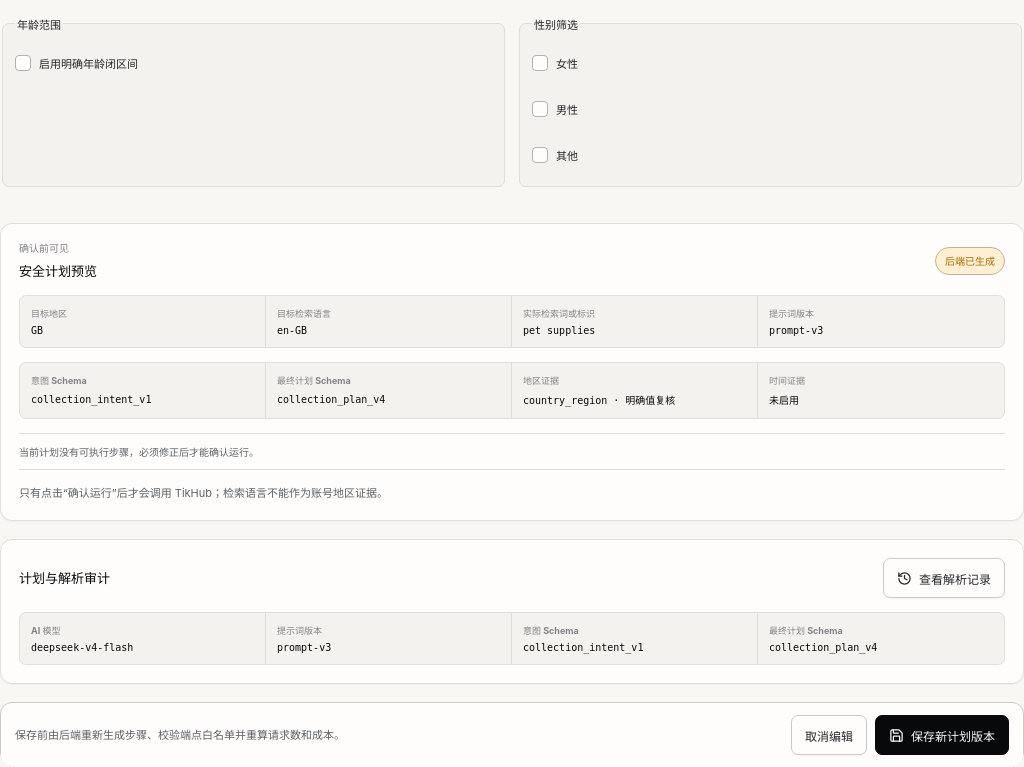
完整任务编辑器 › 查看解析记录包含尚未创建 ai_run 的配置阶段失败
(page scrolled)
Click the button "查看解析记录" at (944, 578), box [883,558,1005,598]
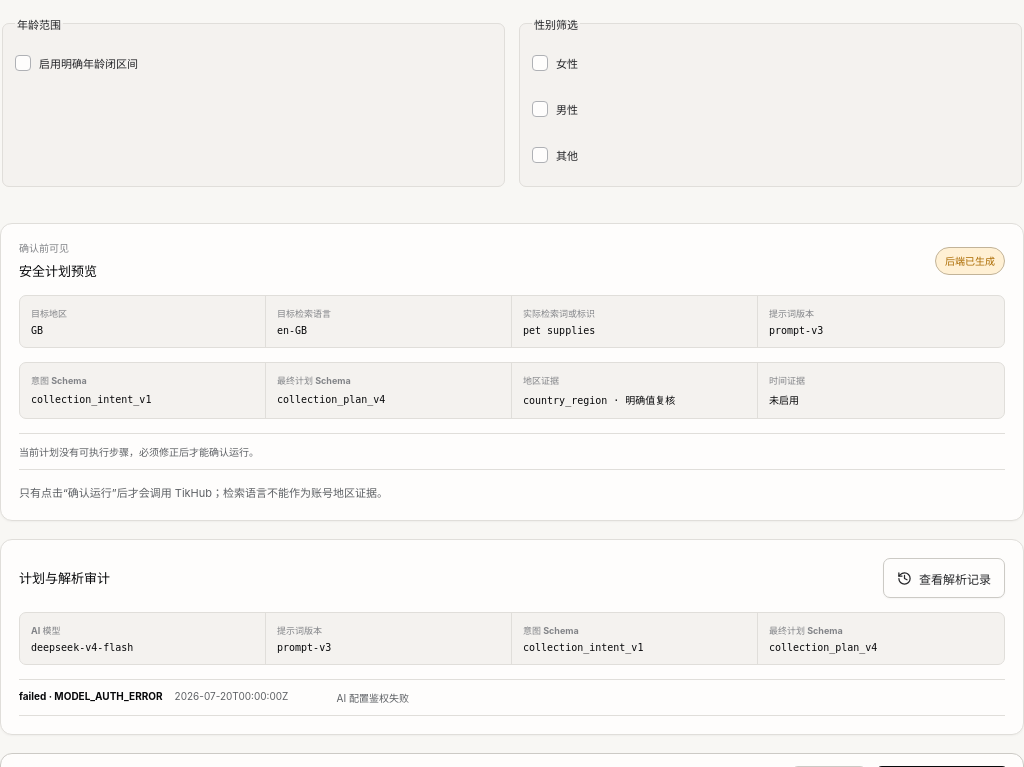
Expected: the text "AI 配置鉴权失败" is shown, [337,692,409,704]
Expected: the text "MODEL_AUTH_ERROR" is shown, [54,690,163,702]
